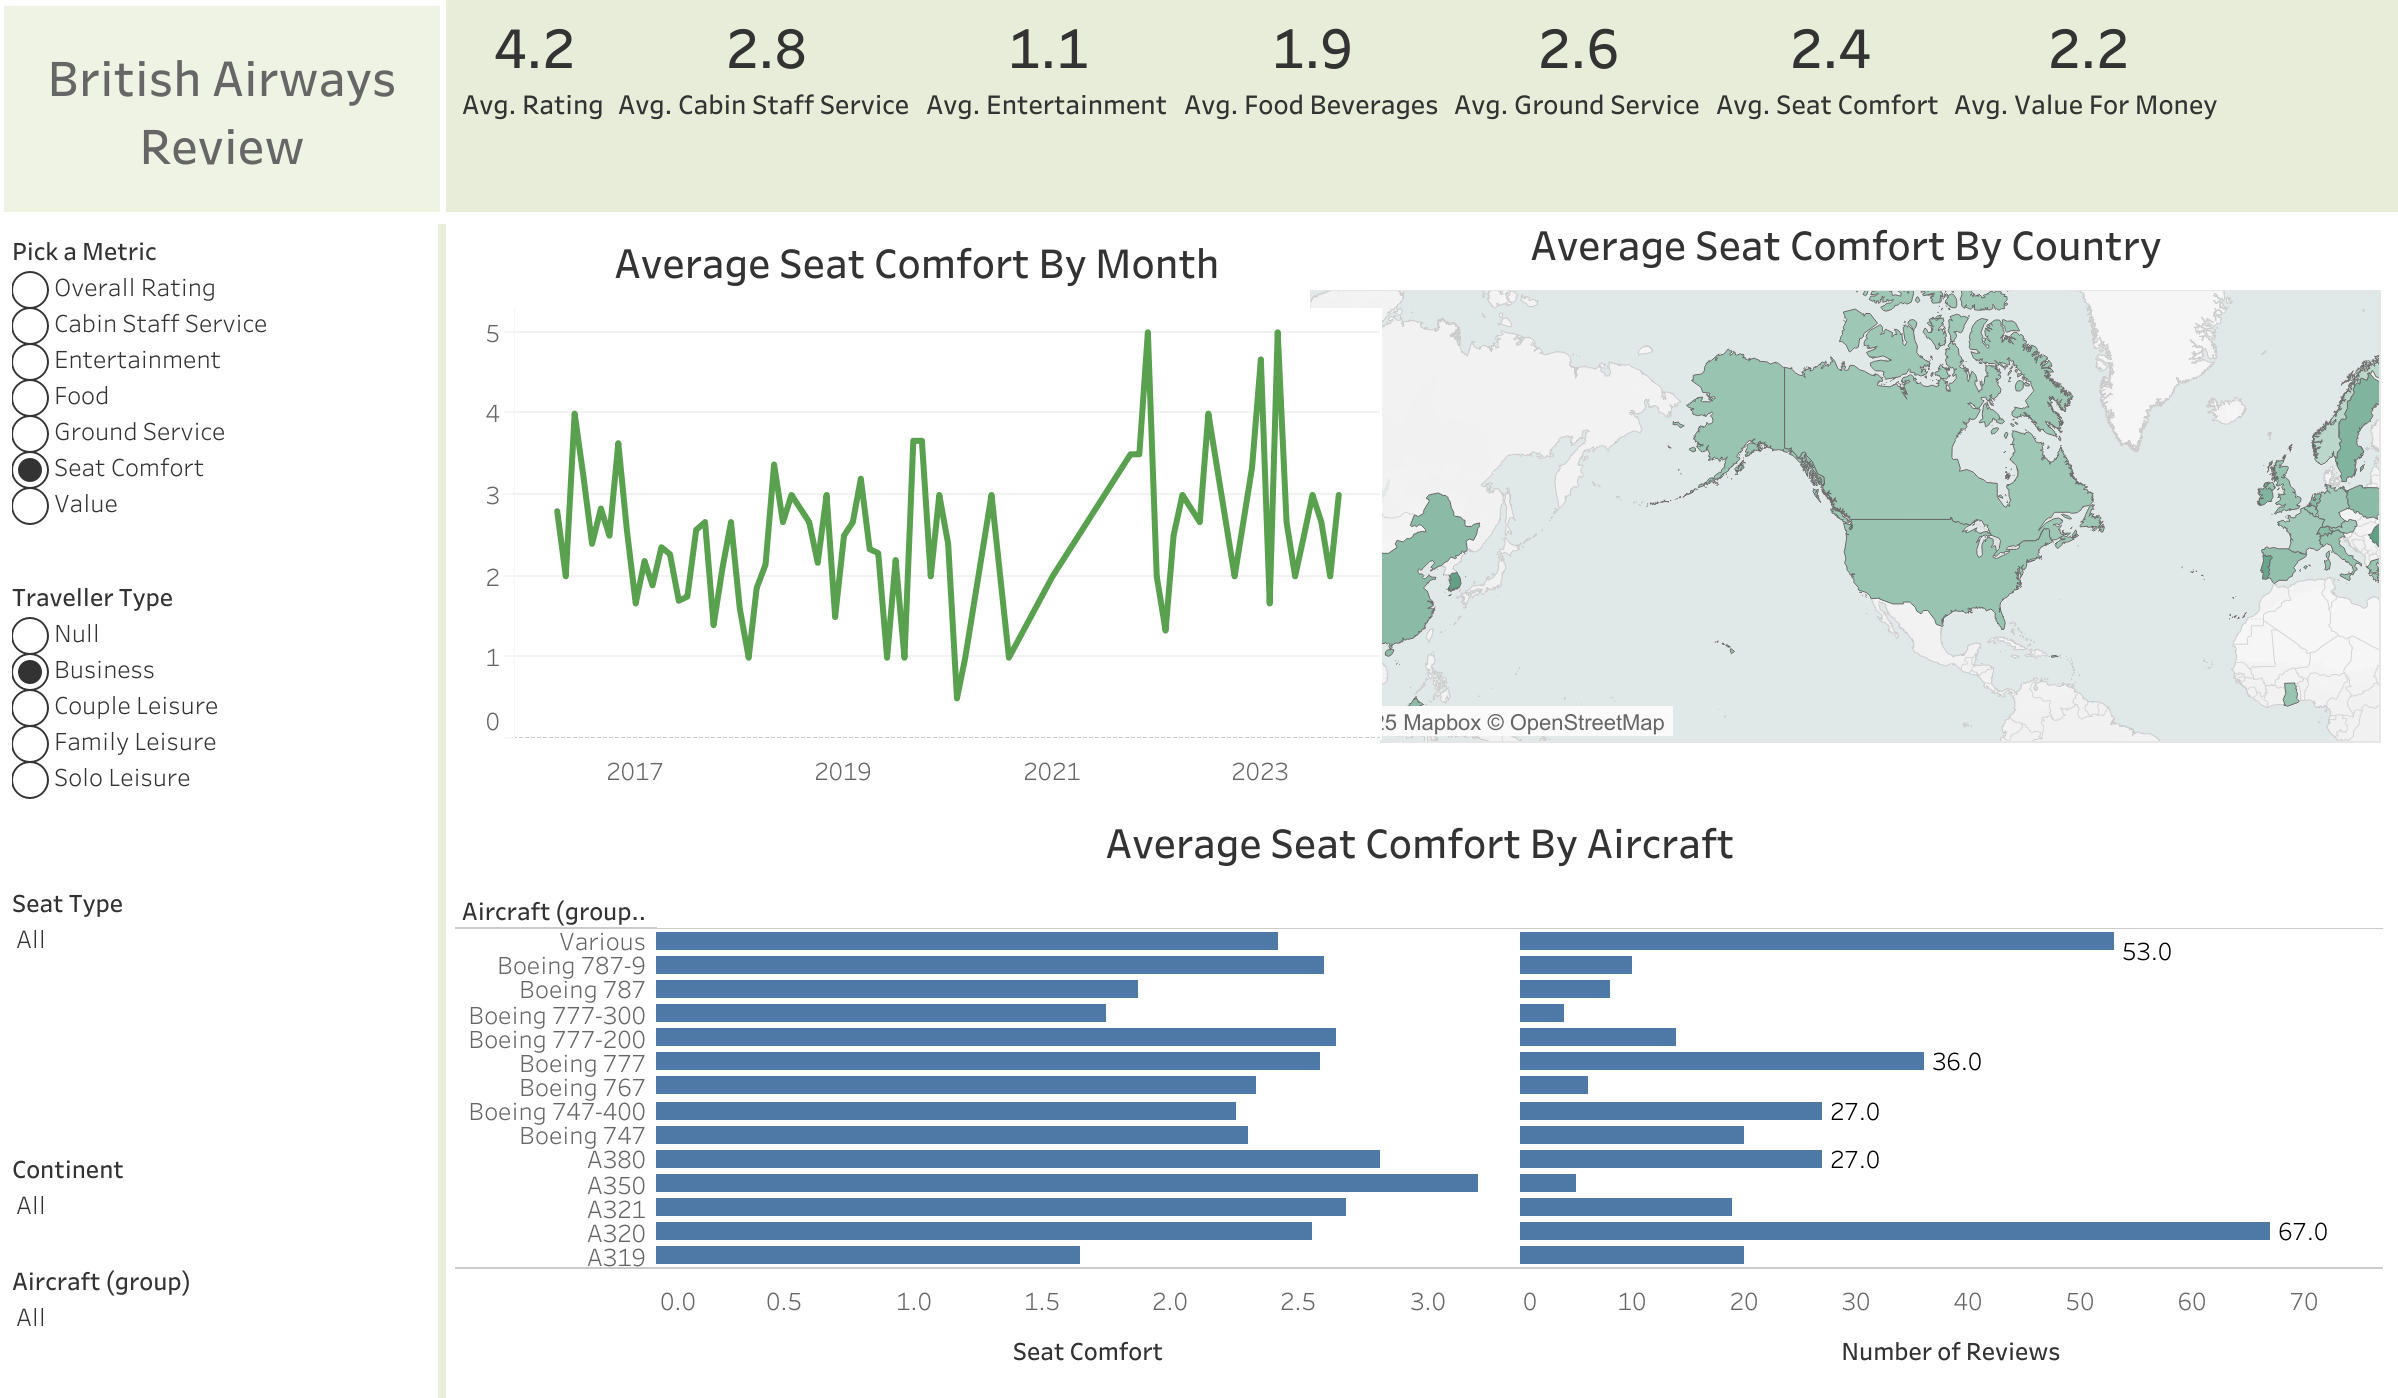

The page's visual inventory and layout, read from the dashboard file:
{"tool":"tableau","page":{"name":"Dashboard 1","canvas":[1200,700],"ordinal":0},"visuals":[{"type":"worksheet","title":"Summary","mark":"Automatic","box":[223,0,976,106]},{"type":"text","box":[2,3,218,103]},{"type":"worksheet","title":"Map","mark":"Automatic","box":[655,102,536,270]},{"type":"parameter","param":"[Parameters].[Parameter 1]","box":[2,111,217,165]},{"type":"worksheet","title":"Month","mark":"Automatic","rows":["Calculation_6669760702803693568"],"cols":["date"],"box":[227,111,463,288]},{"type":"blank","box":[219,112,4,588]},{"type":"filter","title":"Map","param":"[federated.1mtf2or0uhek5y1grp4mw1t1bkyk].[none:traveller_type:nk]","box":[2,276,217,82]},{"type":"filter","title":"Map","param":"[federated.1mtf2or0uhek5y1grp4mw1t1bkyk].[none:seat_type:nk]","box":[2,358,217,82]},{"type":"worksheet","title":"Air Craft","mark":"Automatic","cols":["Calculation_6669760702803693568","ba_reviews.csv_F4514A8AF5A149619FB9FEB9D8AD4C65"],"box":[228,401,964,291]},{"type":"filter","title":"Map","param":"[federated.1mtf2or0uhek5y1grp4mw1t1bkyk].[none:Continent:nk]","box":[2,440,217,52]},{"type":"filter","title":"Map","param":"[federated.1mtf2or0uhek5y1grp4mw1t1bkyk].[Aircraft (group)]","box":[2,492,217,52]}]}

Visuals, with their boxes in screenshot pixels (x1, y1, x2, y2), scaled from the page's 1200x700 canvas onto the 2398x1398 screenshot:
"Summary" worksheet: 446,0,2396,212
text: 4,6,440,212
"Map" worksheet: 1309,204,2380,743
parameter: 4,222,438,551
"Month" worksheet: 454,222,1379,797
blank: 438,224,446,1397
"Map" filter: 4,551,438,715
"Map" filter: 4,715,438,879
"Air Craft" worksheet: 456,801,2382,1382
"Map" filter: 4,879,438,983
"Map" filter: 4,983,438,1086
